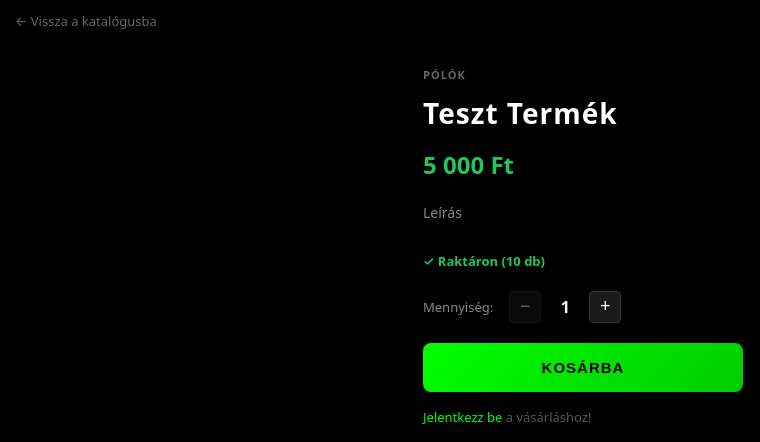
Scenario: <TermekReszlet /> › +/− gombok változtatják a mennyiséget
Expected: the heading "Teszt Termék" is shown, [423,94,618,132]
Click the button "+" at (605, 307), box [589,291,621,323]
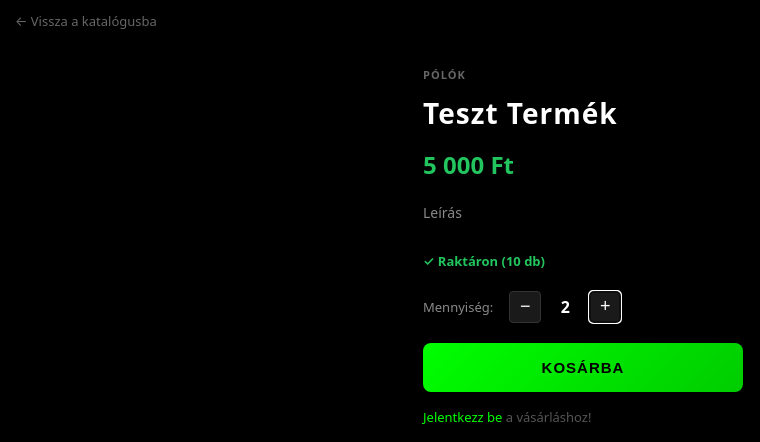
Click the button "+" at (605, 307), box [589,291,621,323]
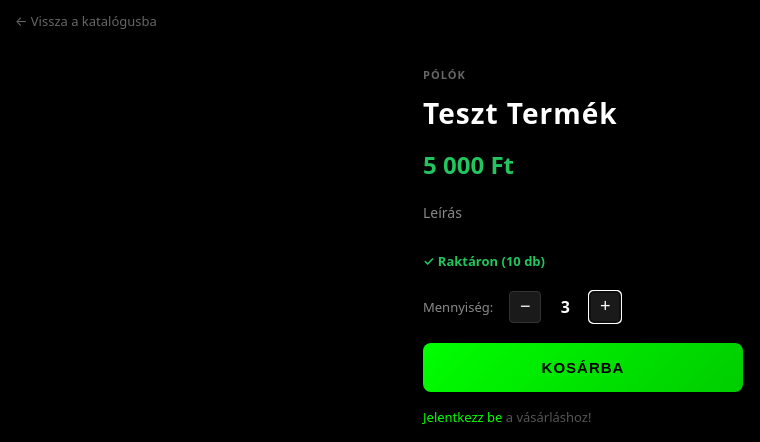
Now the text "3" is shown, box [561,296,570,318]
Click the button "−" at (525, 307), box [509,291,541,323]
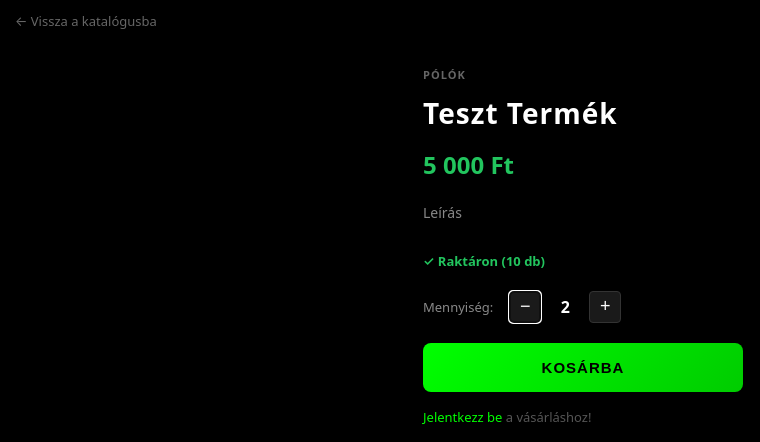
Now the text "2" is shown, box [561,296,570,318]
